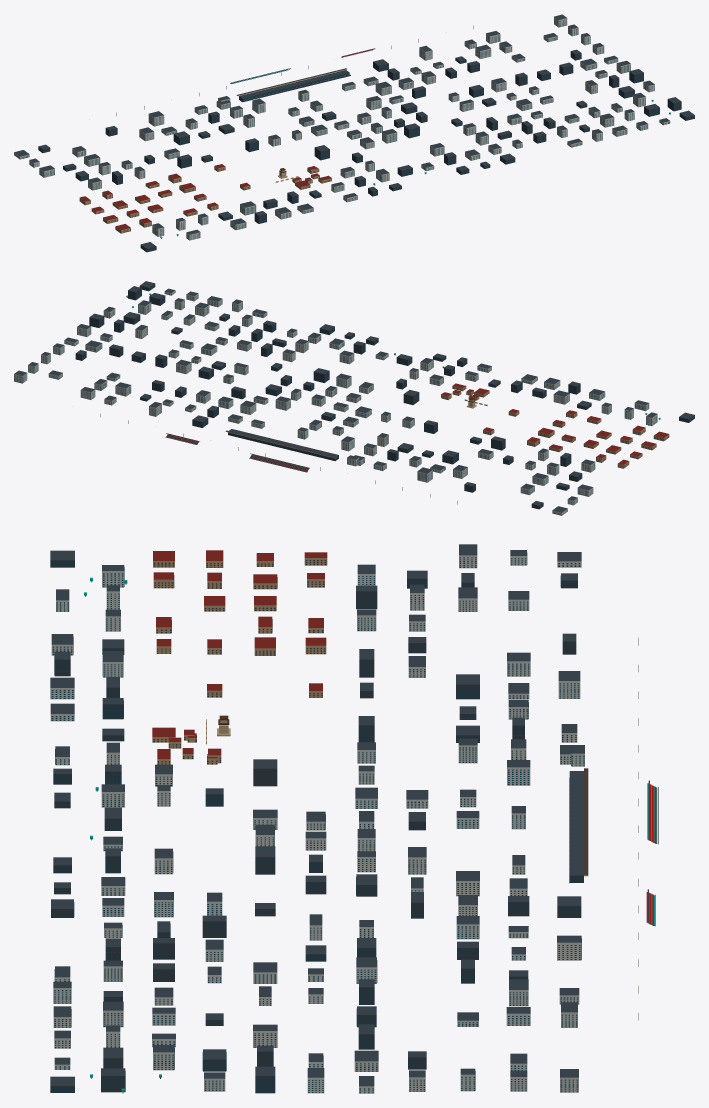
Rendered from Baku_StreetCircuit_Environment.obj.
3 renders of one model, top to bottom at view 1: azimuth 30°, elevation 25°; view 2: azimuth 150°, elevation 25°; view 3: azimuth 270°, elevation 25°, orthographic. The views are drawn at different scales.
Visible parts, largest first — view 1: BakuStreetCircuitEnvironment; view 2: BakuStreetCircuitEnvironment; view 3: BakuStreetCircuitEnvironment.
Boxes of the visible parts, x1,y1,x2,y2 form: BakuStreetCircuitEnvironment: [14, 14, 694, 252]; BakuStreetCircuitEnvironment: [14, 281, 694, 515]; BakuStreetCircuitEnvironment: [50, 544, 658, 1093].
Size of the model in its own units: 2205 by 34.98 by 1057.
